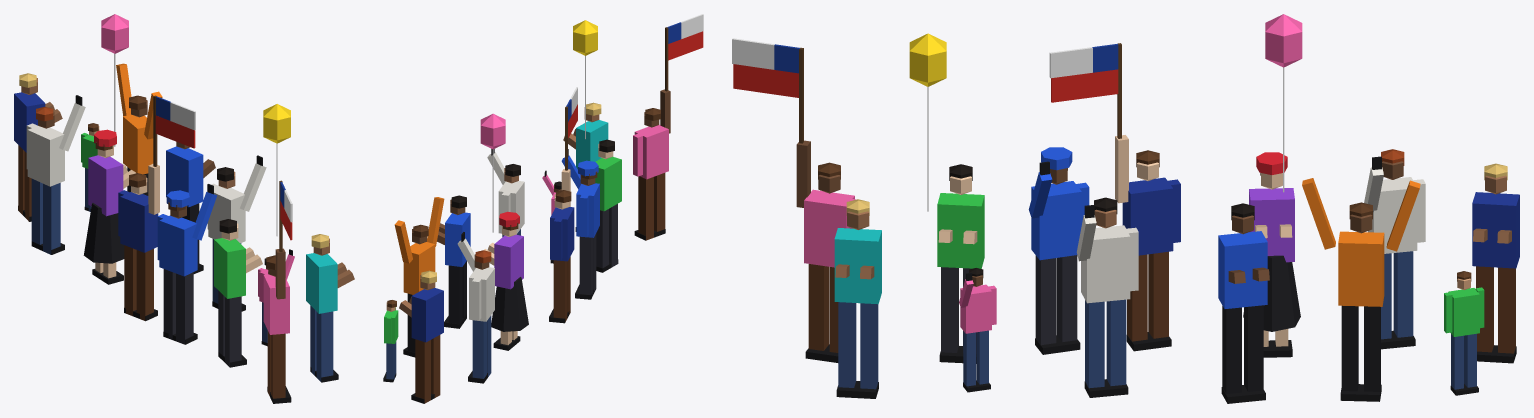
File: publico_fiesta_2.obj
The picture shows the model from 3 angles, left to right: view 1: azimuth 30°, elevation 25°; view 2: azimuth 150°, elevation 25°; view 3: azimuth 270°, elevation 25°; orthographic projection. The views are drawn at different scales.
Visible parts, largest first — view 1: publico_fiesta_2; view 2: publico_fiesta_2; view 3: publico_fiesta_2.
Boxes of the visible parts, x1=… form: publico_fiesta_2: x1=14, y1=14, x2=354, y2=403; publico_fiesta_2: x1=383, y1=14, x2=703, y2=403; publico_fiesta_2: x1=732, y1=14, x2=1519, y2=403.
Size of the model in its own units: 1.54 by 3.09 by 6.38.
